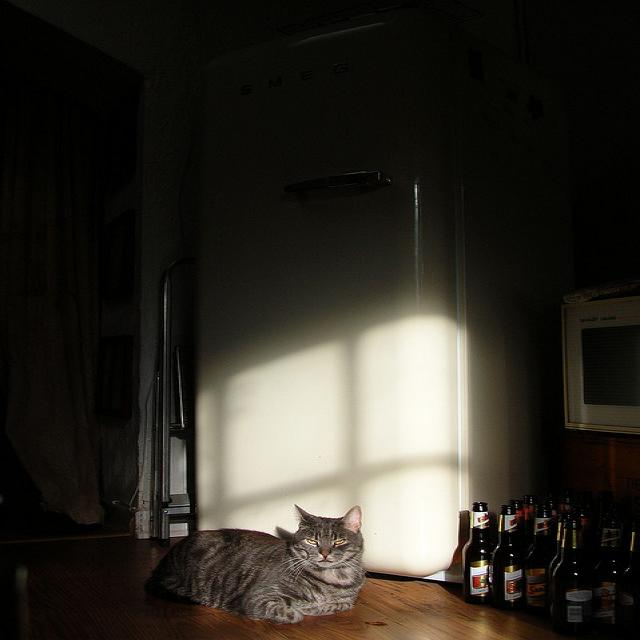Bottle: (465, 489, 582, 630), (555, 505, 639, 640), (505, 487, 587, 603), (441, 488, 513, 608)
Cat: (167, 499, 398, 640)
Table: (7, 519, 640, 640)
